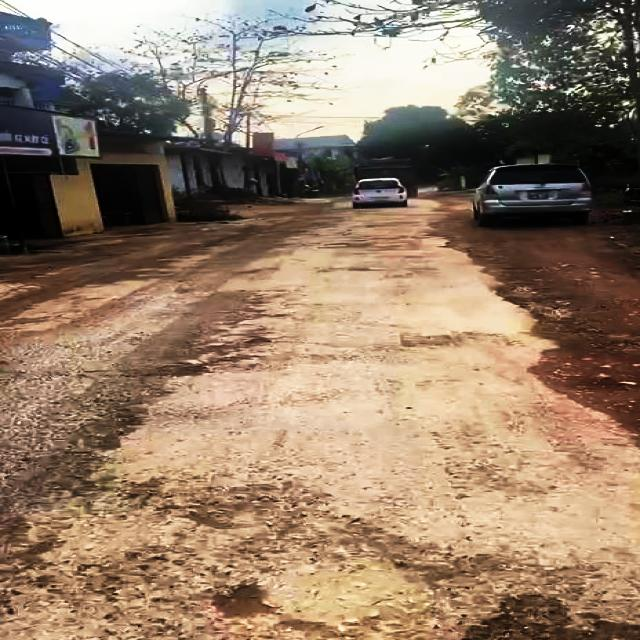pothole: (445, 590, 640, 640), (214, 575, 273, 625)
